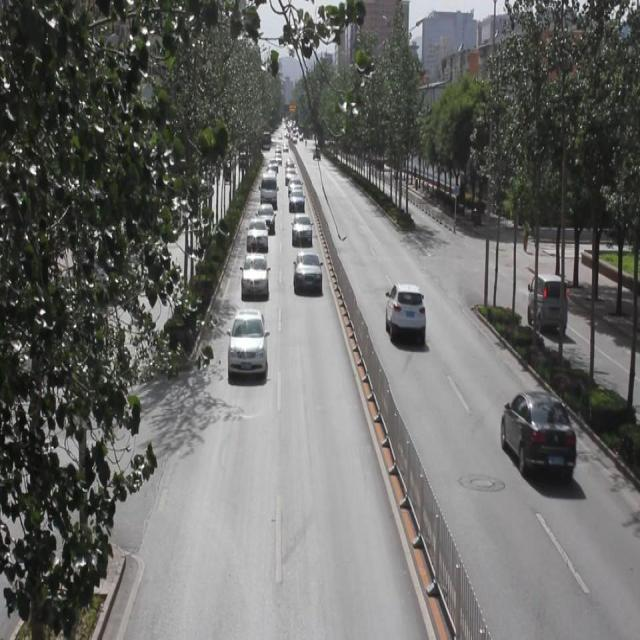car: (500, 389, 573, 477), (227, 307, 267, 380), (384, 280, 424, 342), (240, 251, 270, 298), (293, 251, 321, 293), (246, 215, 268, 250), (290, 212, 312, 245), (255, 202, 276, 233)
truck: (525, 267, 566, 336)
